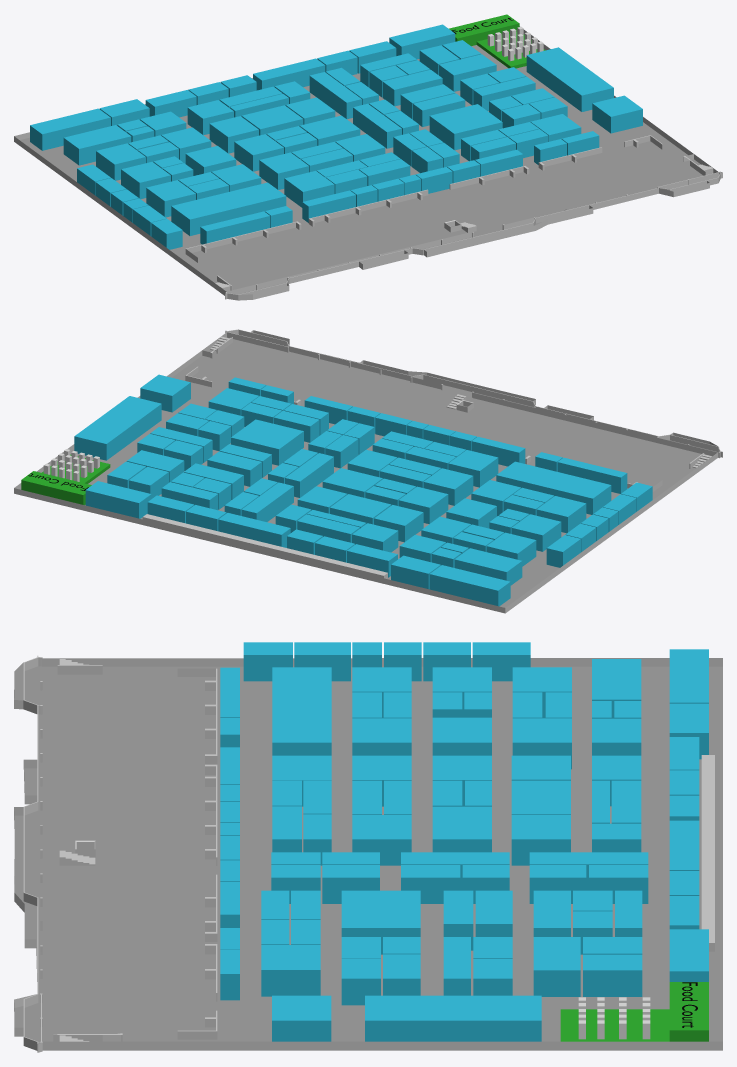
File: Hall_B_2.glb
3 views of the same model, one above another, from view 1: azimuth 30°, elevation 25°; view 2: azimuth 150°, elevation 25°; view 3: azimuth 270°, elevation 25° (orthographic). The views are drawn at different scales.
Visible parts, largest first — view 1: Plane, Building_curve_, Background_curve_, BOOTHLAYER_curve_.B-6030, BOOTHLAYER_curve_.B-3190, BOOTHLAYER_curve_.B-5140, BOOTHLAYER_curve_.B-1000, 0_curve_, BOOTHLAYER_curve_.B-2000, BOOTHLAYER_curve_.B-6180, BOOTHLAYER_curve_.B-2100, BOOTHLAYER_curve_.B-1060 (+62 smaller); view 2: Plane, Building_curve_, Background_curve_, BOOTHLAYER_curve_.B-3190, BOOTHLAYER_curve_.B-6030, BOOTHLAYER_curve_.B-1000, BOOTHLAYER_curve_.B-5140, 0_curve_, BOOTHLAYER_curve_.B-1100, BOOTHLAYER_curve_.B-2000, BOOTHLAYER_curve_.B-1060, BOOTHLAYER_curve_.B-6180 (+61 smaller); view 3: Plane, Building_curve_, BOOTHLAYER_curve_.B-3190, Background_curve_, BOOTHLAYER_curve_.B-6030, 0_curve_, BOOTHLAYER_curve_.B-5140, BOOTHLAYER_curve_.B-6170, BOOTHLAYER_curve_.B-2200, BOOTHLAYER_curve_.B-6180, BOOTHLAYER_curve_.B-4095, BOOTHLAYER_curve_.B-2195 (+80 smaller).
Part boxes in pixels (x1=…): Plane: x1=20, y1=45, x2=703, y2=294; Building_curve_: x1=14, y1=26, x2=722, y2=299; Background_curve_: x1=14, y1=47, x2=721, y2=300; BOOTHLAYER_curve_.B-6030: x1=171, y1=182, x2=286, y2=235; BOOTHLAYER_curve_.B-3190: x1=526, y1=47, x2=613, y2=111; BOOTHLAYER_curve_.B-5140: x1=429, y1=104, x2=502, y2=150; BOOTHLAYER_curve_.B-1000: x1=30, y1=108, x2=110, y2=150; 0_curve_: x1=449, y1=14, x2=545, y2=68; BOOTHLAYER_curve_.B-2000: x1=63, y1=125, x2=131, y2=165; BOOTHLAYER_curve_.B-6180: x1=592, y1=95, x2=642, y2=133; BOOTHLAYER_curve_.B-2100: x1=309, y1=72, x2=361, y2=119; BOOTHLAYER_curve_.B-1060: x1=253, y1=58, x2=325, y2=90; Plane: x1=20, y1=337, x2=717, y2=607; Building_curve_: x1=14, y1=329, x2=722, y2=578; Background_curve_: x1=14, y1=330, x2=722, y2=613; BOOTHLAYER_curve_.B-3190: x1=74, y1=396, x2=161, y2=460; BOOTHLAYER_curve_.B-6030: x1=496, y1=461, x2=611, y2=514; BOOTHLAYER_curve_.B-1000: x1=429, y1=565, x2=510, y2=606; BOOTHLAYER_curve_.B-5140: x1=231, y1=419, x2=303, y2=465; 0_curve_: x1=21, y1=454, x2=110, y2=505; BOOTHLAYER_curve_.B-1100: x1=85, y1=481, x2=151, y2=518; BOOTHLAYER_curve_.B-2000: x1=454, y1=548, x2=522, y2=585; BOOTHLAYER_curve_.B-1060: x1=218, y1=513, x2=290, y2=547; BOOTHLAYER_curve_.B-6180: x1=140, y1=374, x2=190, y2=412; Plane: x1=14, y1=666, x2=722, y2=1041; Building_curve_: x1=23, y1=655, x2=714, y2=1050; BOOTHLAYER_curve_.B-3190: x1=365, y1=995, x2=541, y2=1041; Background_curve_: x1=14, y1=658, x2=722, y2=1052; BOOTHLAYER_curve_.B-6030: x1=272, y1=667, x2=331, y2=755; 0_curve_: x1=560, y1=982, x2=708, y2=1041; BOOTHLAYER_curve_.B-5140: x1=341, y1=890, x2=420, y2=954; BOOTHLAYER_curve_.B-6170: x1=261, y1=945, x2=320, y2=996; BOOTHLAYER_curve_.B-2200: x1=533, y1=937, x2=580, y2=996; BOOTHLAYER_curve_.B-6180: x1=272, y1=995, x2=331, y2=1041; BOOTHLAYER_curve_.B-4095: x1=432, y1=806, x2=491, y2=852; BOOTHLAYER_curve_.B-2195: x1=583, y1=954, x2=642, y2=996.
Size of the model in its own units: 92.8 by 3 by 71.65.
